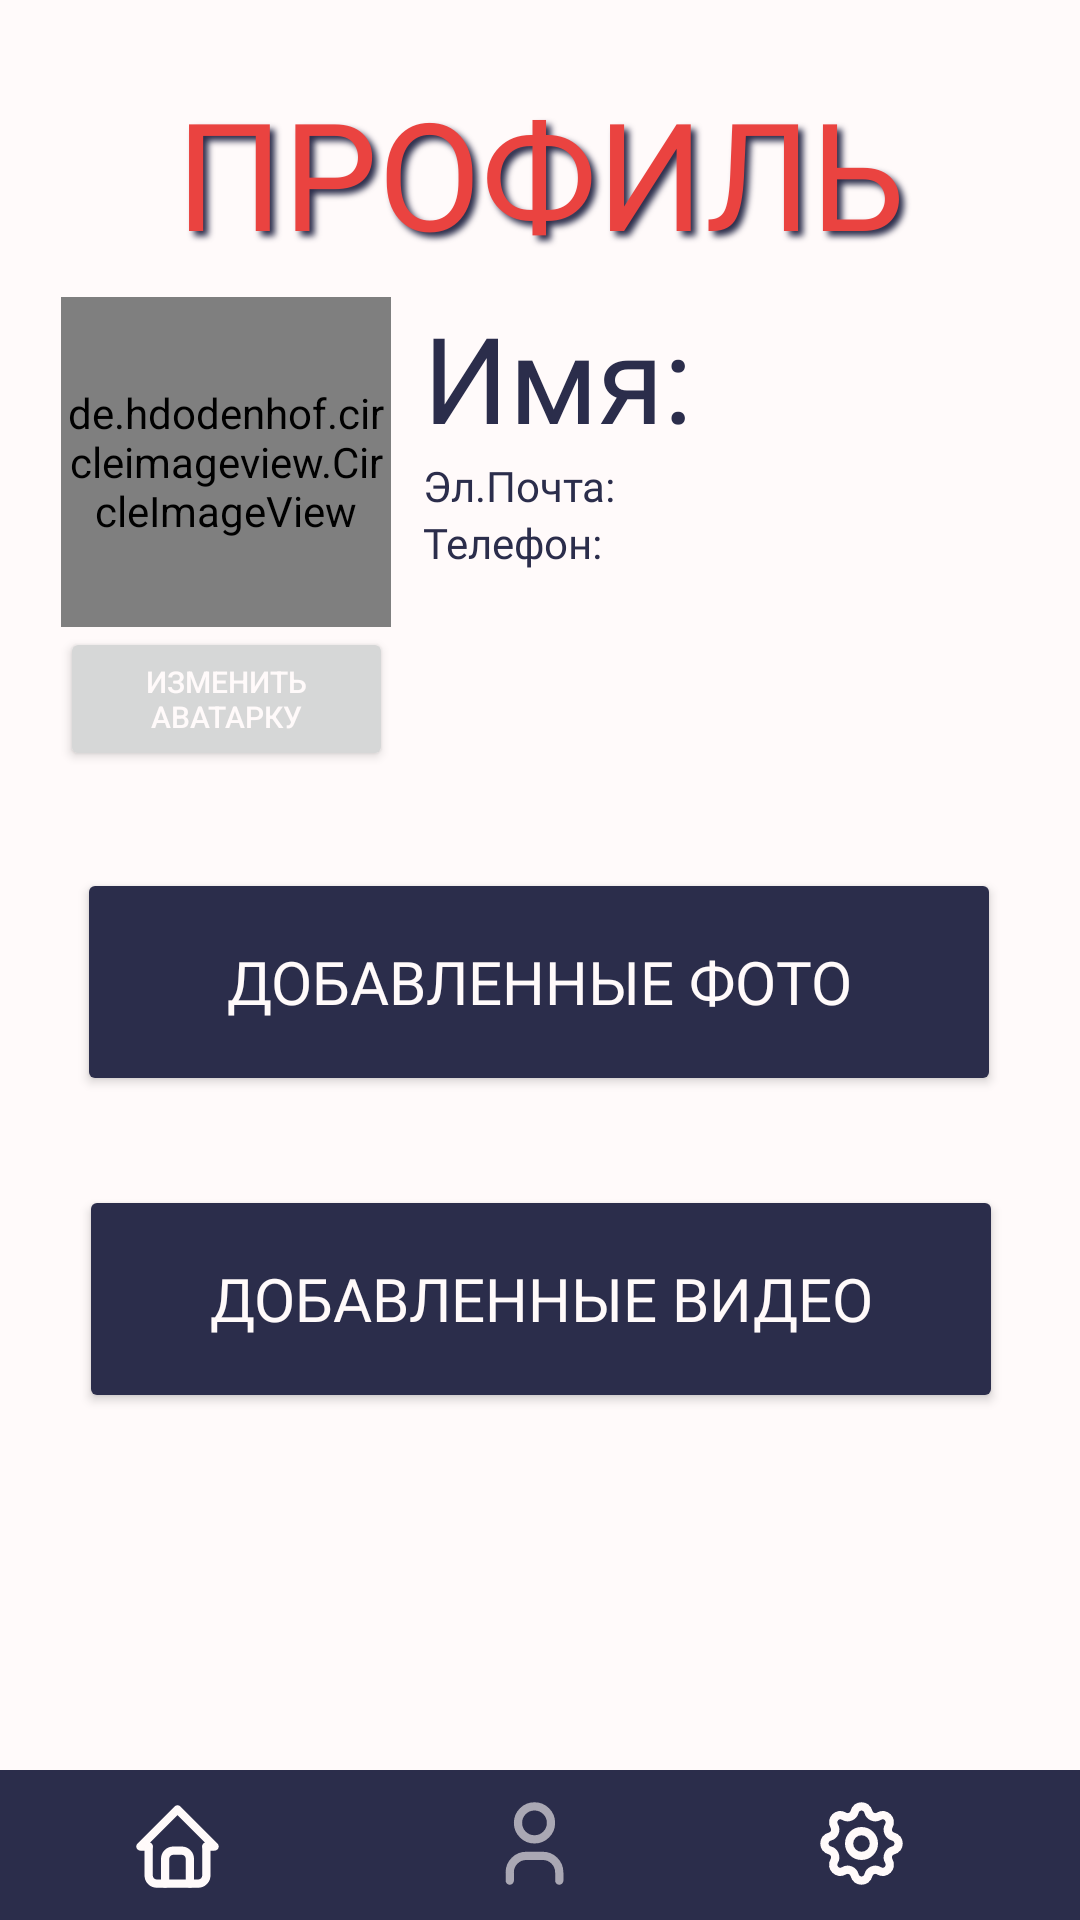

Point at icon controls on the screen. Image size 1080x1920, points as [x,y].
home: [177,1846]
settings: [861,1843]
user: [534,1843]
